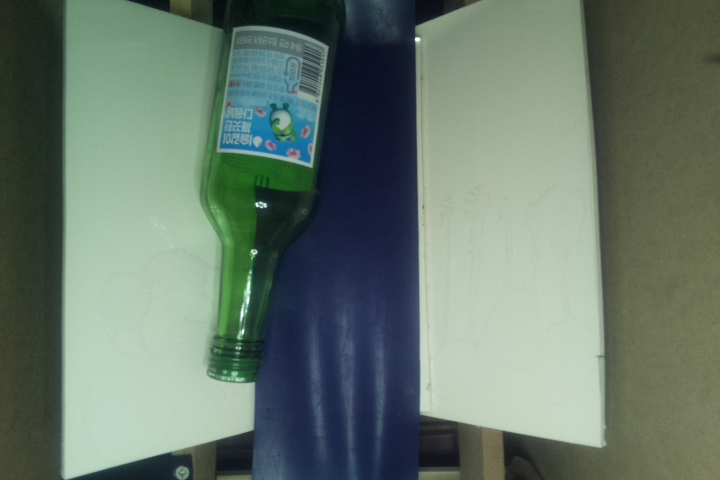soju: (199, 1, 346, 384)
